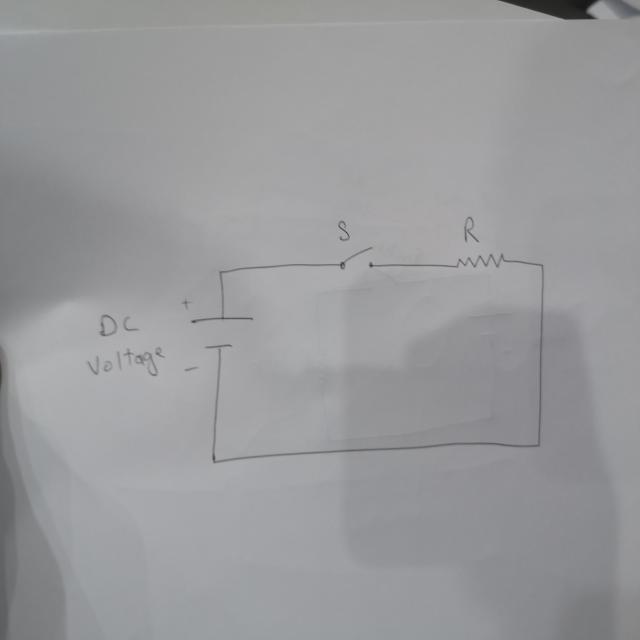junction: (208, 452, 220, 467), (215, 267, 225, 279), (537, 260, 546, 272), (535, 441, 542, 450)
resistor: (451, 252, 509, 272)
source: (188, 314, 255, 356)
switch: (338, 238, 376, 272)
text: (87, 345, 165, 381), (96, 311, 142, 337), (462, 212, 482, 245), (335, 216, 351, 244)
